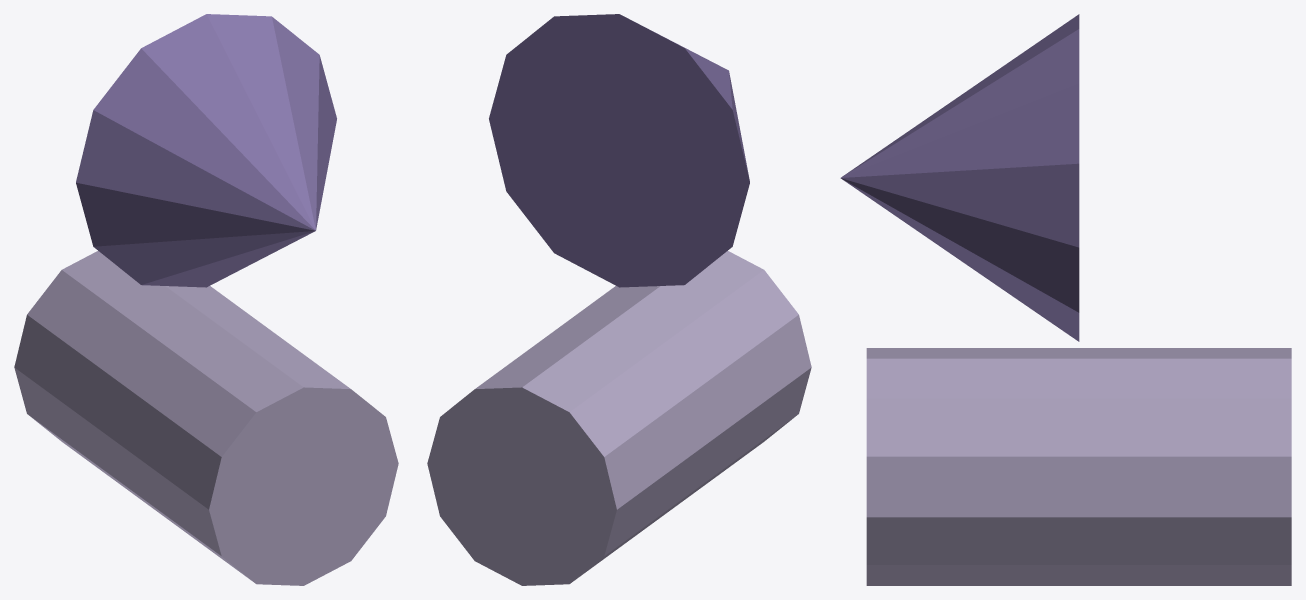
Rendered from world_10.glb.
3 renders of one model, left to right at view 1: azimuth 30°, elevation 25°; view 2: azimuth 150°, elevation 25°; view 3: azimuth 270°, elevation 25°, orthographic. The views are drawn at different scales.
Parts seen in each view (by area): view 1: castle-tower, roof; view 2: castle-tower, roof; view 3: castle-tower, roof.
Boxes of the visible parts, x1,y1,x2,y2 form: castle-tower: [14, 251, 398, 585]; roof: [76, 14, 336, 287]; castle-tower: [427, 251, 811, 585]; roof: [489, 14, 749, 287]; castle-tower: [866, 348, 1291, 585]; roof: [840, 14, 1079, 341].
Bounding box in the file's own units: 1.24 × 2.27 × 1.7.
